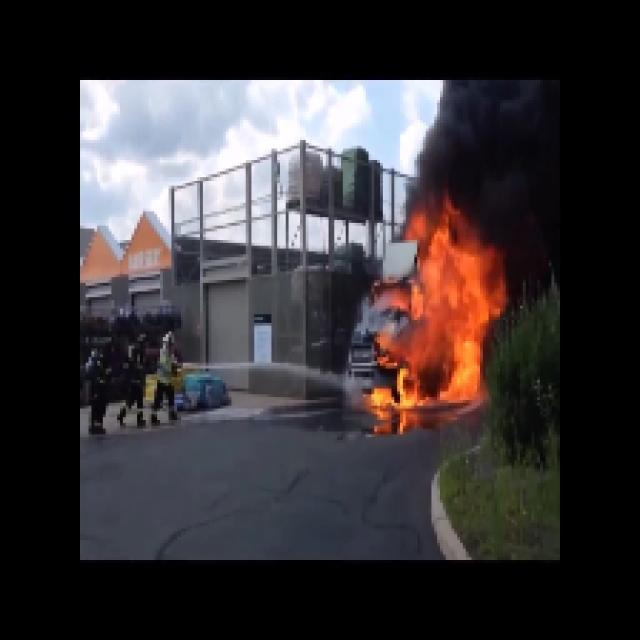fire: (420, 241, 492, 401)
smoke: (464, 88, 563, 237)
